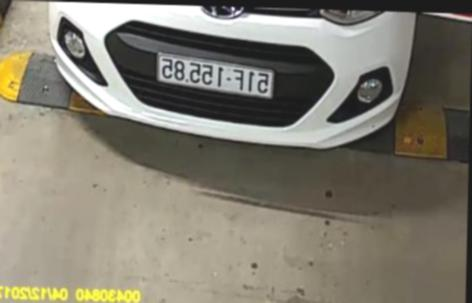License_Plate: (149, 52, 280, 96)
